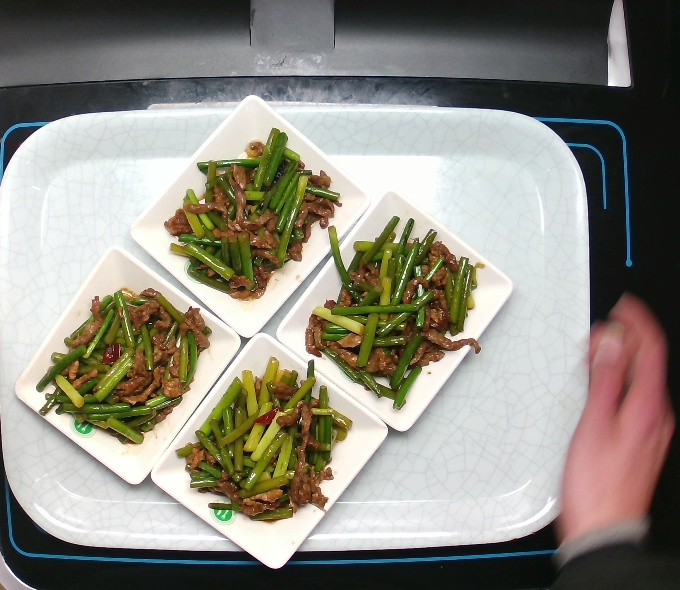wcq-SuanMiaoNiuRou: (291, 210, 501, 418), (173, 351, 364, 548), (157, 121, 348, 310), (29, 280, 218, 446)
